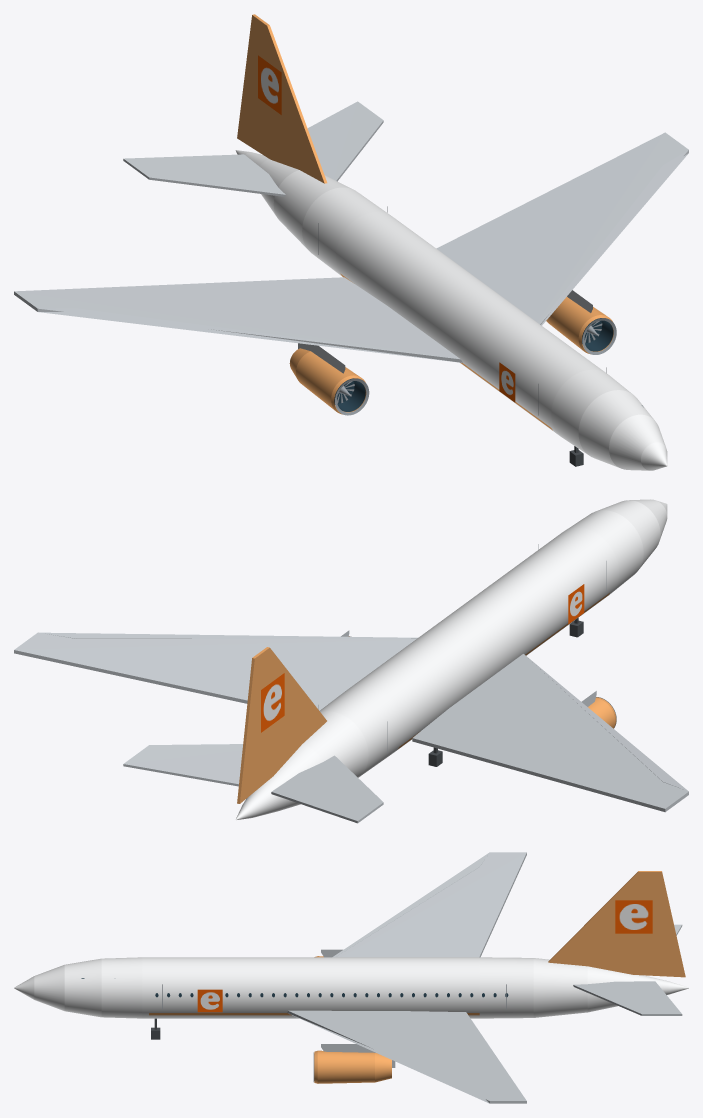
File: b767-EZY-v3.gltf
3 renders of one model, top to bottom at view 1: azimuth 30°, elevation 25°; view 2: azimuth 150°, elevation 25°; view 3: azimuth 270°, elevation 25°, orthographic. The views are drawn at different scales.
Parts seen in each view (by area): view 1: object 1; view 2: object 1; view 3: object 1.
Boxes of the visible parts, x1=… form: object 1: x1=14, y1=14, x2=688, y2=470; object 1: x1=14, y1=499, x2=688, y2=823; object 1: x1=14, y1=852, x2=688, y2=1103.
Size of the model in its own units: 48 by 14.98 by 55.
Materials: 8 (1 with a texture image).
